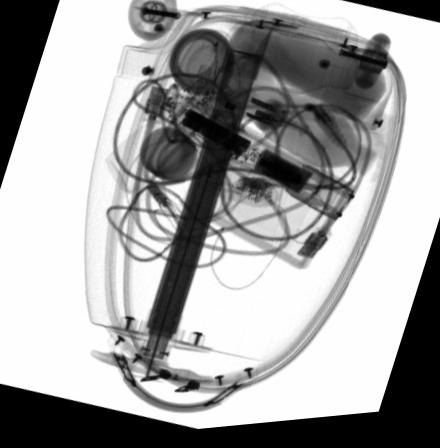Baton: (175, 104, 354, 228)
